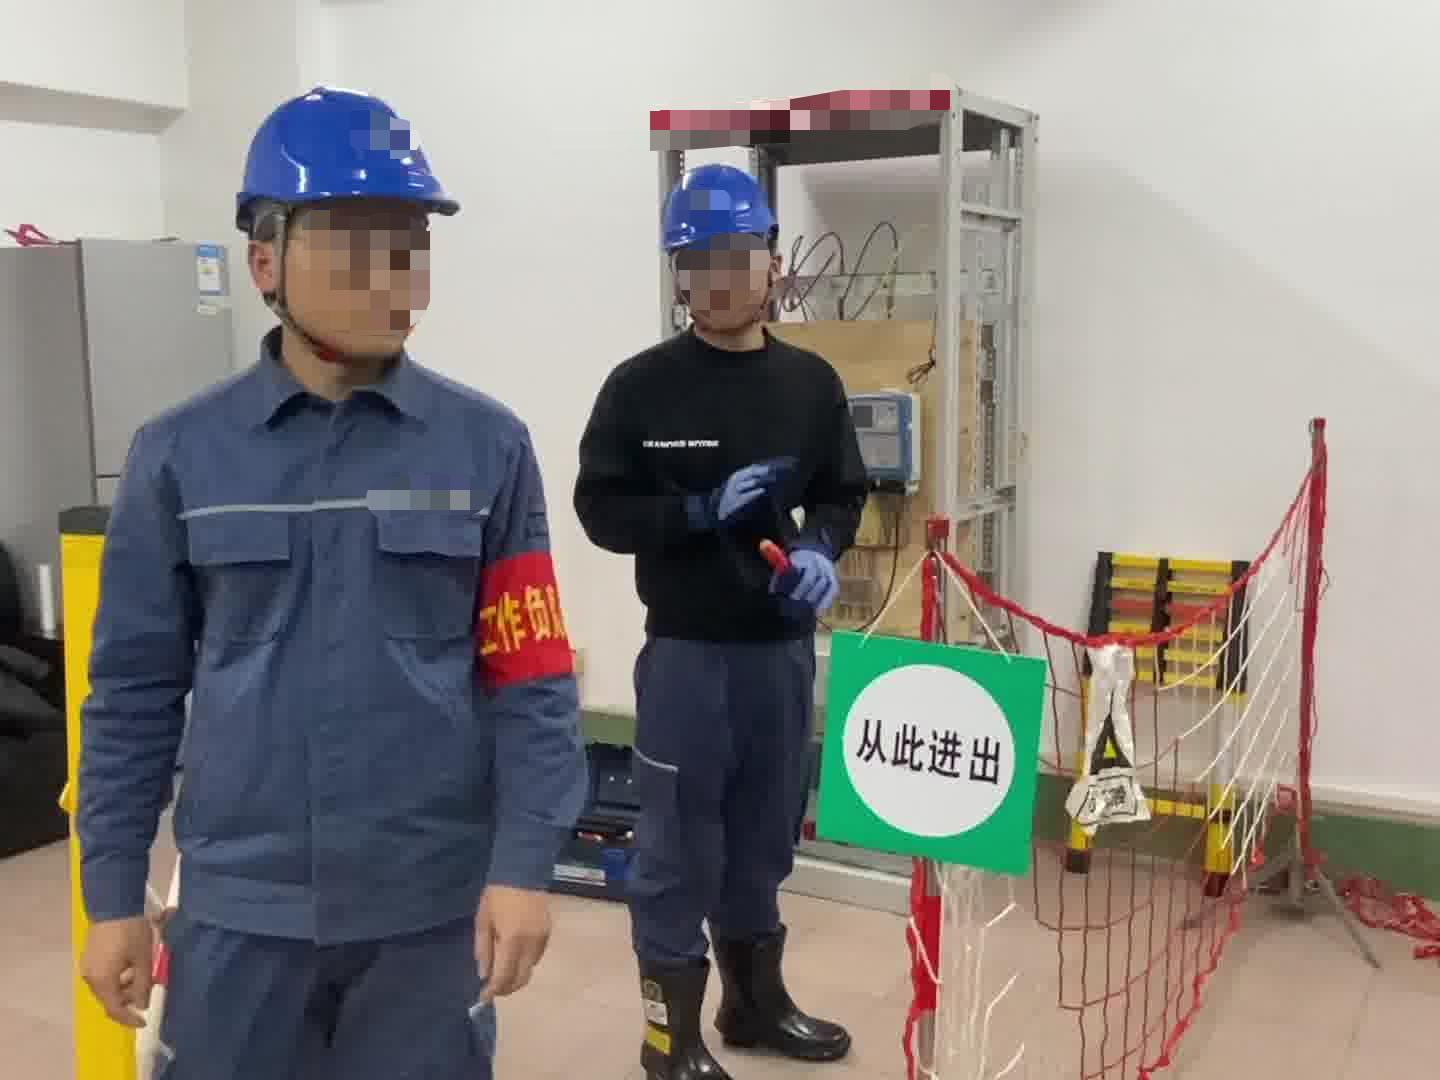halt: (228, 86, 464, 381), (659, 164, 791, 351)
inear: (247, 214, 303, 307)
